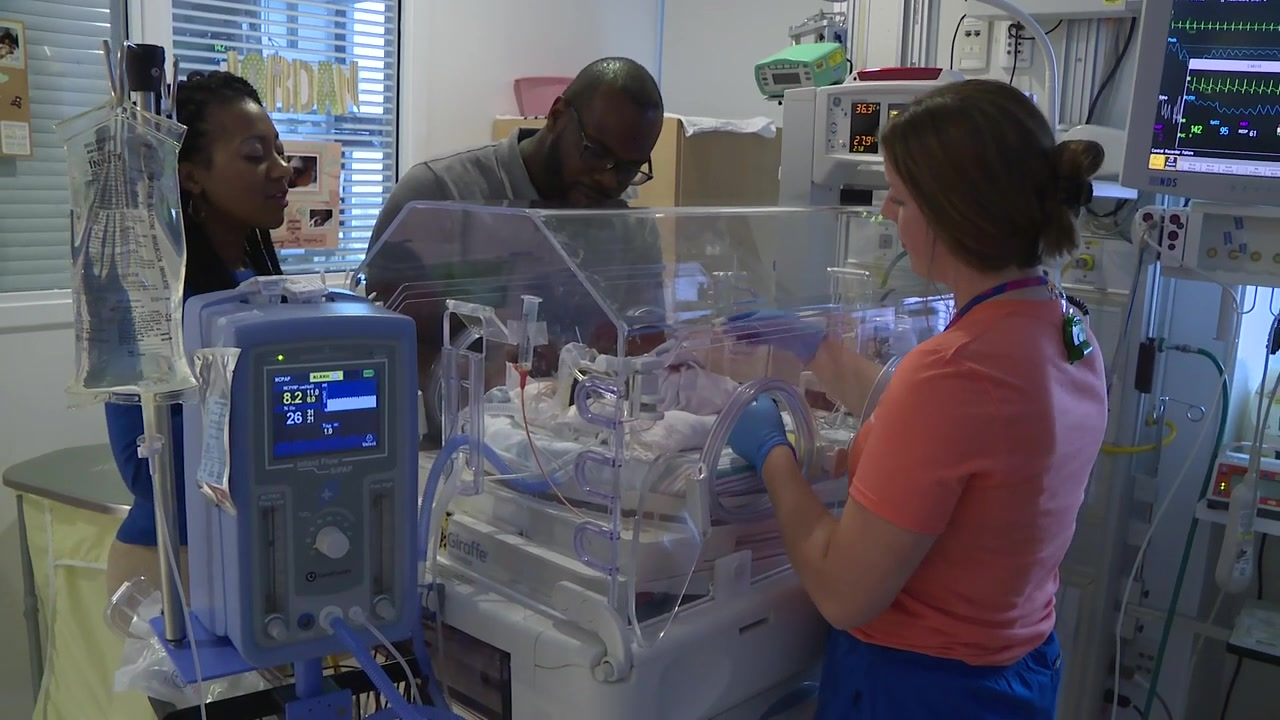bedside_monitor: (1122, 1, 1280, 198)
breathing_tube: (331, 610, 460, 720)
incubator: (351, 204, 947, 717)
iv_pole: (101, 34, 196, 720), (1141, 392, 1209, 479)
staff: (723, 81, 1108, 720)
visitor: (106, 70, 294, 720), (365, 58, 667, 404)
waste_bin: (1, 442, 148, 720)
